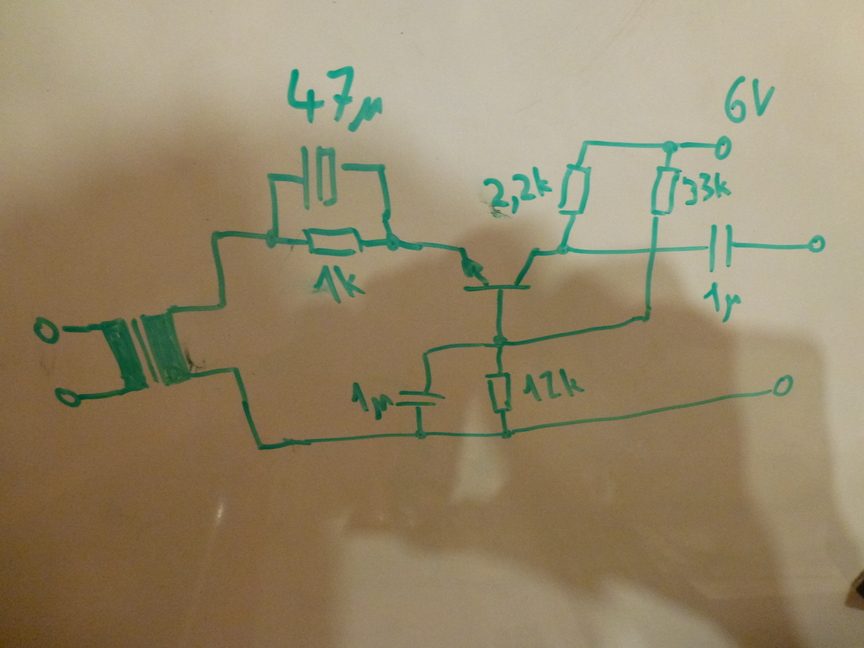capacitor.polarized: (293, 142, 352, 213)
capacitor.unpolarized: (699, 221, 746, 274), (394, 381, 447, 417)
crossover: (644, 242, 664, 258)
junction: (549, 238, 578, 262), (379, 230, 405, 255), (262, 223, 284, 252), (658, 136, 681, 159), (488, 329, 510, 353), (261, 168, 287, 188), (575, 134, 597, 156), (204, 223, 223, 248), (372, 156, 392, 179), (249, 439, 269, 458), (497, 426, 519, 443), (211, 294, 230, 313), (411, 425, 430, 444), (637, 309, 658, 326), (225, 360, 245, 377), (418, 345, 435, 361)
resistor: (297, 222, 373, 261), (556, 157, 594, 227), (647, 160, 680, 222), (481, 368, 517, 420)
terminal: (27, 312, 69, 348), (766, 368, 797, 404), (50, 382, 85, 413), (709, 133, 736, 164), (803, 231, 829, 257)
text: (280, 62, 387, 137), (479, 164, 555, 214), (720, 71, 780, 129), (309, 263, 371, 306), (697, 278, 750, 326), (517, 366, 586, 402), (347, 377, 395, 424), (680, 168, 735, 209)
transformer: (98, 301, 198, 403)
transistor: (455, 241, 543, 299)
